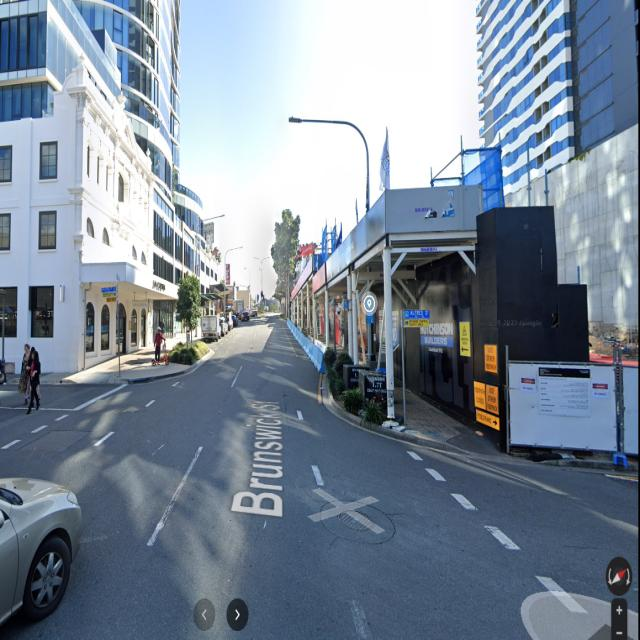light pole: (195, 215, 225, 338), (224, 247, 243, 312)
steel-pole: (364, 144, 372, 363), (194, 225, 198, 336), (223, 254, 226, 316)
streetlight: (287, 116, 367, 144), (195, 215, 225, 236), (225, 246, 242, 258)
